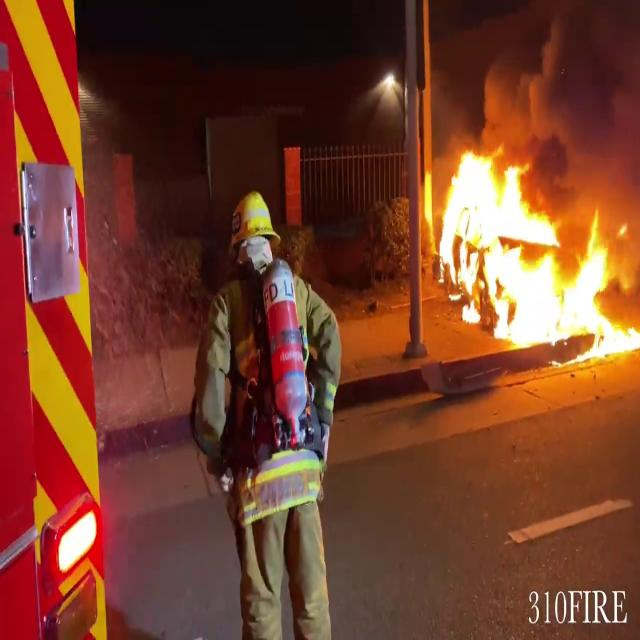Fire: (433, 141, 640, 359)
Smoke: (477, 3, 640, 193)
